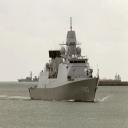Fragata: (28, 17, 101, 106)
